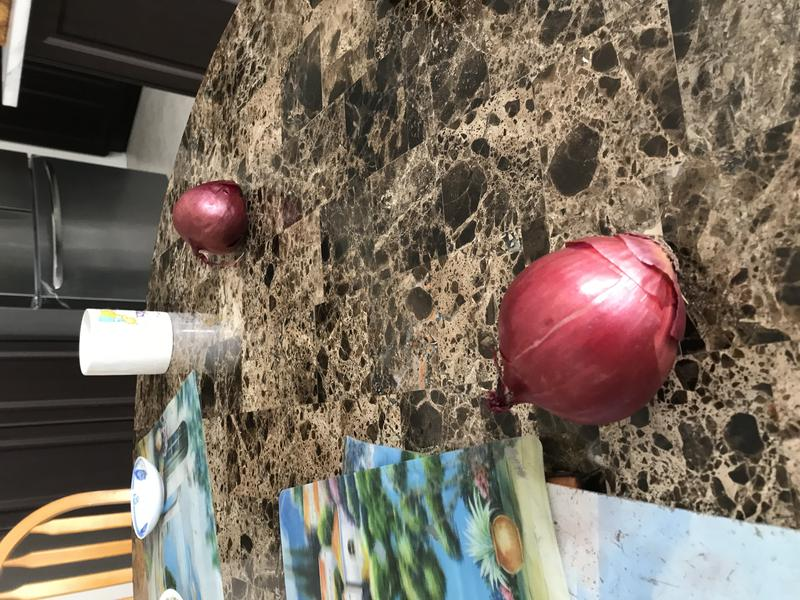purple_onion: (473, 219, 696, 445), (164, 171, 259, 263)
